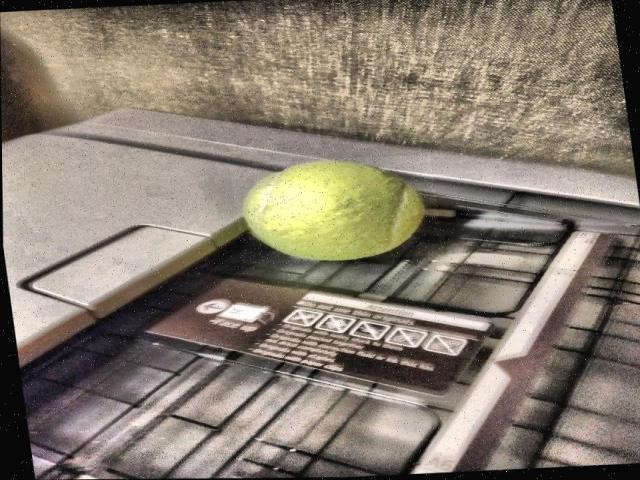tennis-ball: (242, 160, 426, 261)
